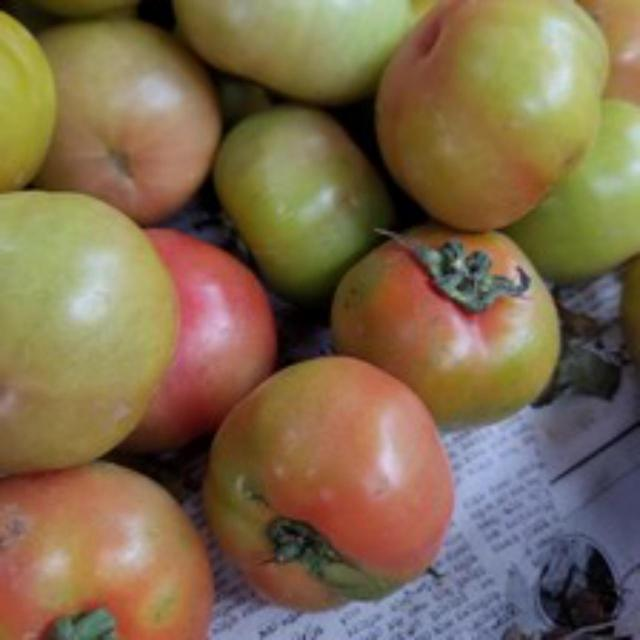tomato: (199, 354, 475, 608)
